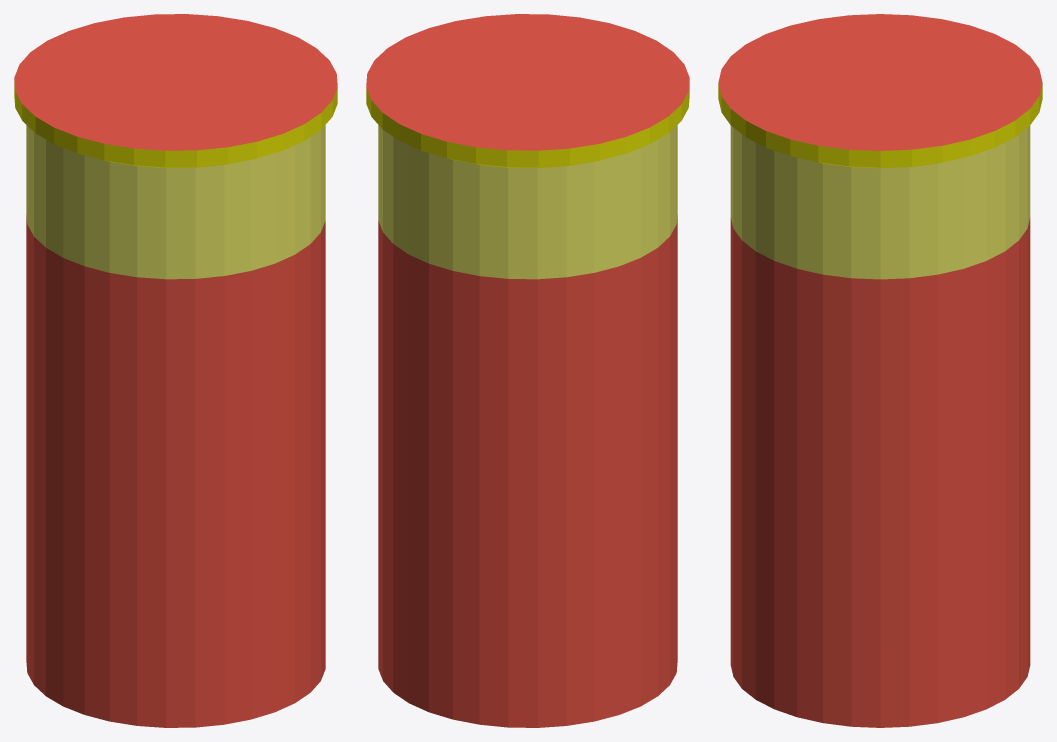
The model's file is ShotgunBullet.fbx.
The picture shows the model from 3 angles, left to right: view 1: azimuth 30°, elevation 25°; view 2: azimuth 150°, elevation 25°; view 3: azimuth 270°, elevation 25°; orthographic projection.
Parts seen in each view (by area): view 1: Цилиндр; view 2: Цилиндр; view 3: Цилиндр.
Boxes of the visible parts, left/top/right/bottom form: Цилиндр: left=14, top=14, right=337, bottom=727; Цилиндр: left=366, top=14, right=689, bottom=727; Цилиндр: left=718, top=14, right=1042, bottom=727.
Bounding box in the file's own units: 4.32 × 8.57 × 4.32.
